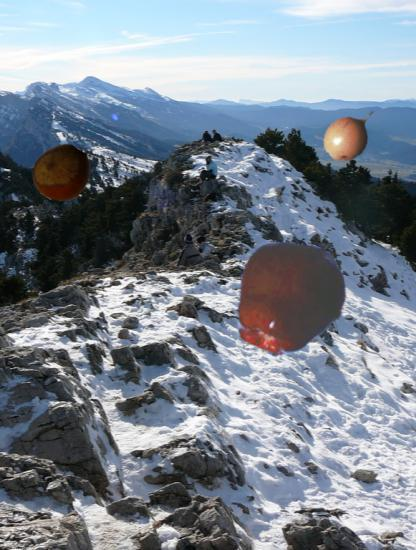Apple: (230, 239, 349, 358)
Granadilla: (320, 102, 385, 167)
Nut: (33, 144, 92, 203)
